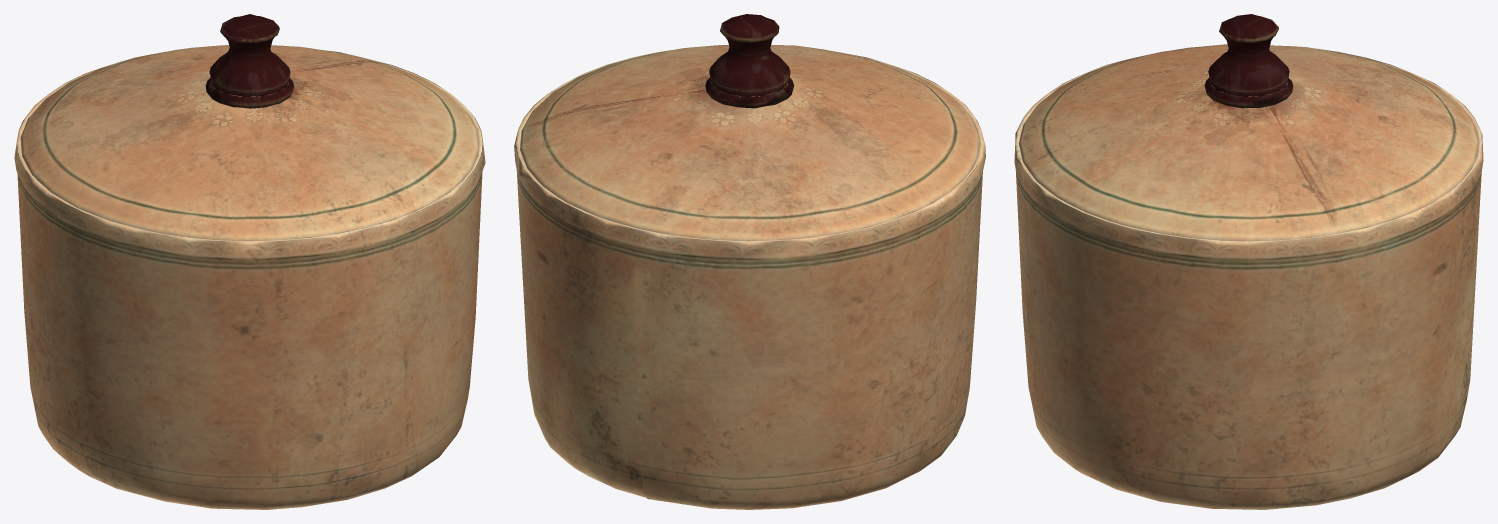
The model's file is brass_pot_01.glb.
3 renders of one model, left to right at view 1: azimuth 30°, elevation 25°; view 2: azimuth 150°, elevation 25°; view 3: azimuth 270°, elevation 25°, orthographic.
Visible parts, largest first — view 1: brass_pot_01; view 2: brass_pot_01; view 3: brass_pot_01.
Part boxes in pixels (box(x1,y1,x2,y2)): brass_pot_01: box(14, 14, 485, 509); brass_pot_01: box(514, 14, 985, 509); brass_pot_01: box(1014, 14, 1483, 509).
Bounding box in the file's own units: 0.3011 × 0.2909 × 0.3001.
Materials: 1 (1 with a texture image).
